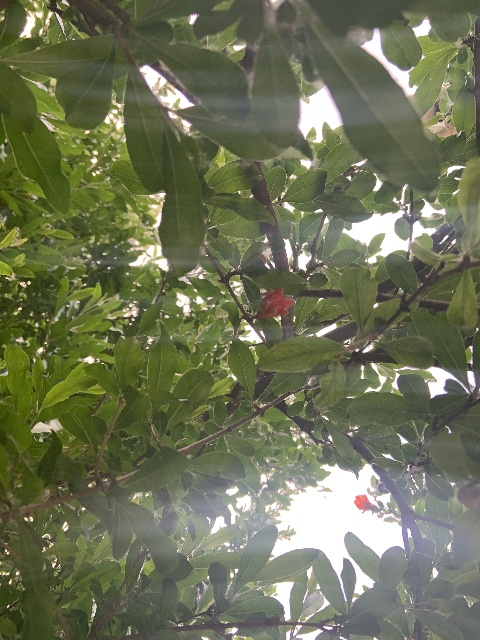flower: (256, 287, 294, 318), (353, 494, 374, 514)
